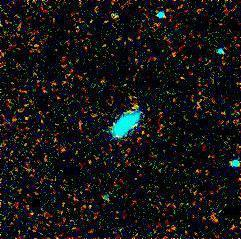star: (122, 94, 152, 124)
